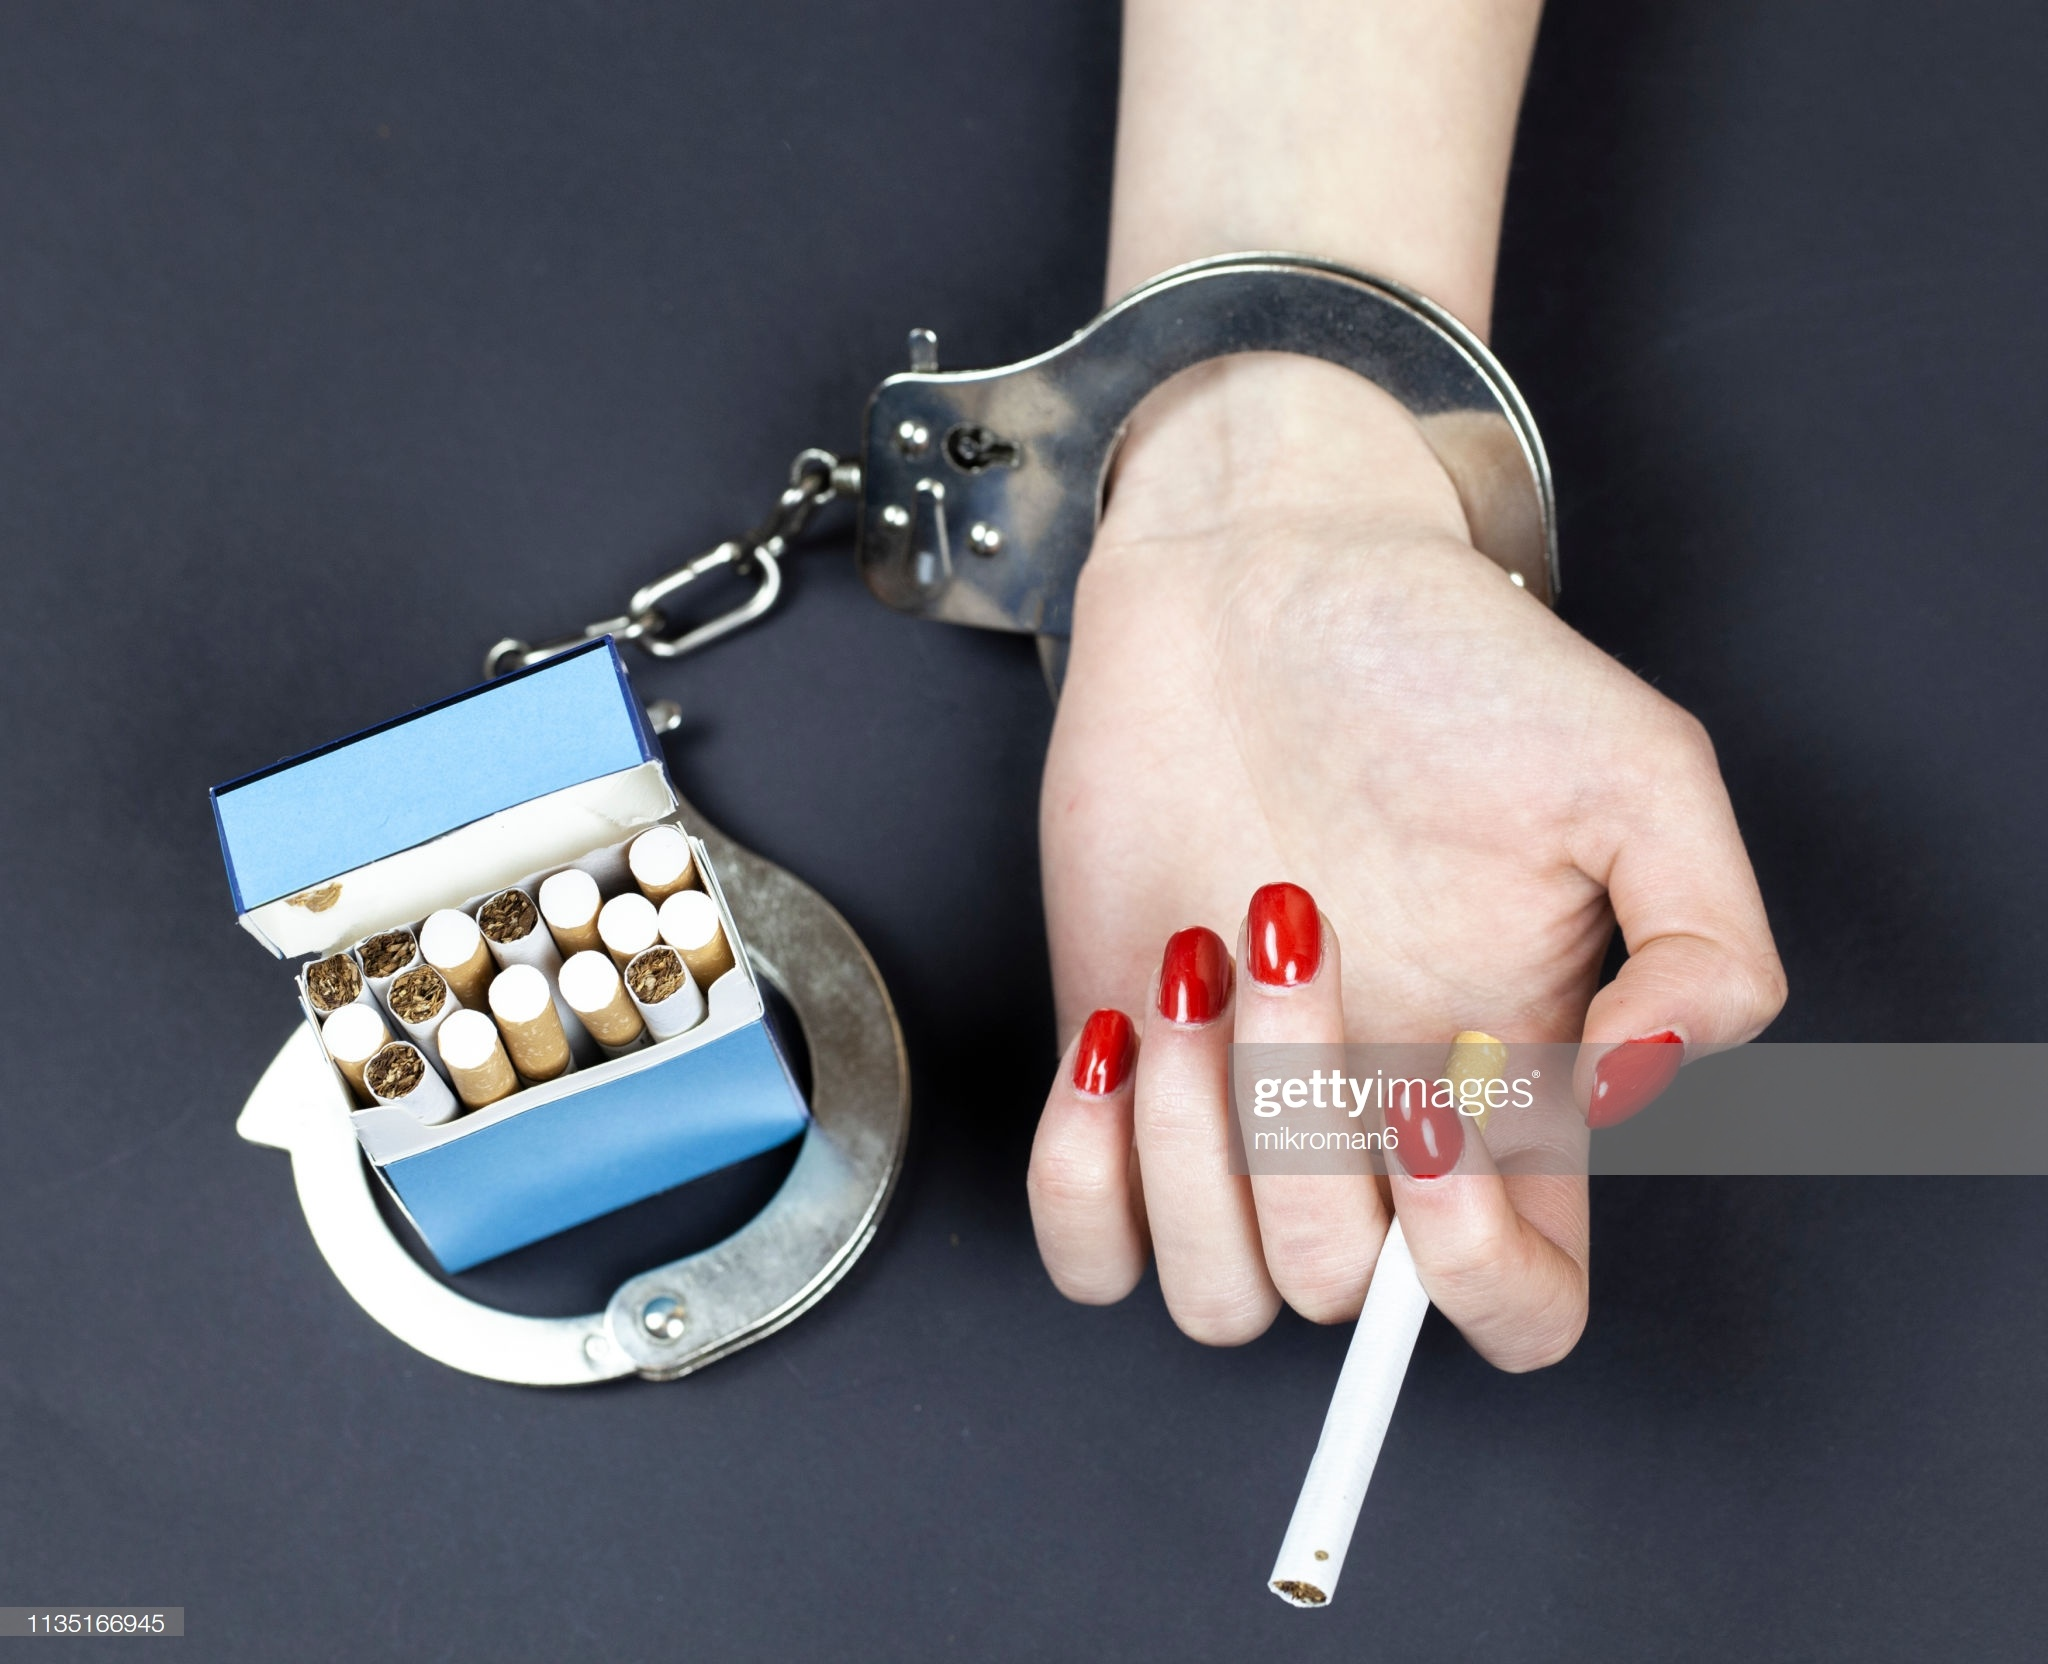sigaretta: (1267, 998, 1511, 1622)
